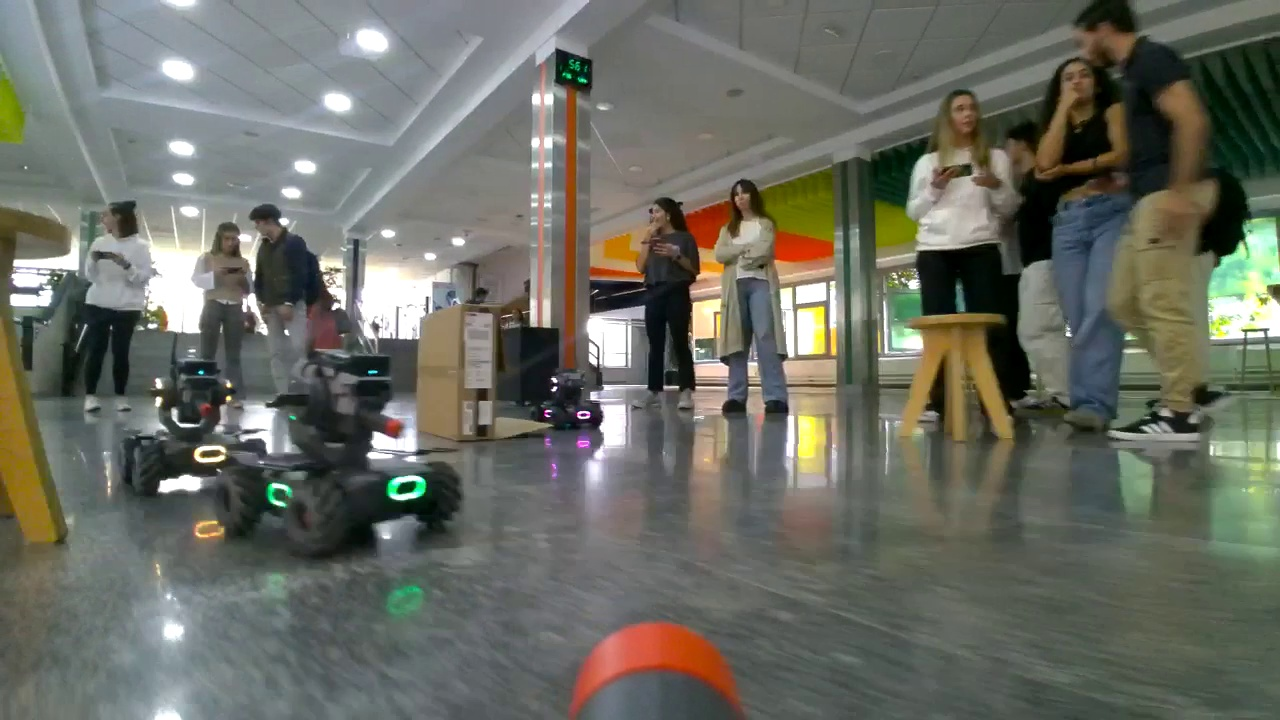robot: (228, 351, 460, 563), (116, 355, 274, 500), (534, 369, 607, 428)
